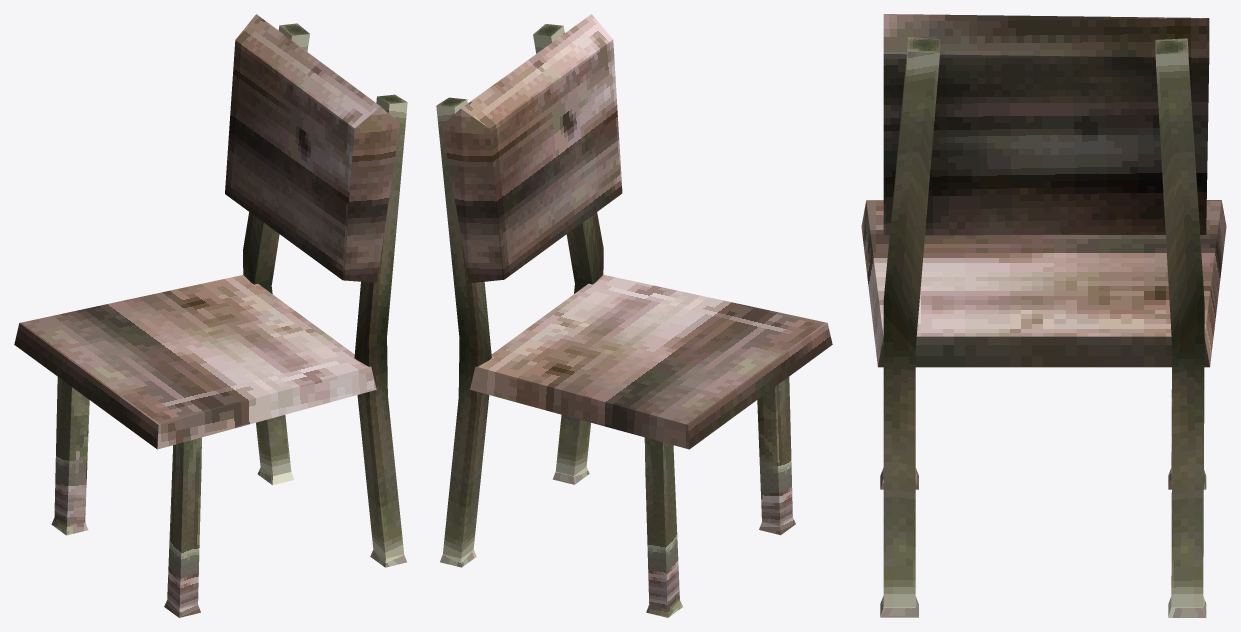
Rendered from prop_chair.glb.
3 views of the same model, side by side, from view 1: azimuth 30°, elevation 25°; view 2: azimuth 150°, elevation 25°; view 3: azimuth 270°, elevation 25° (orthographic). The views are drawn at different scales.
Parts seen in each view (by area): view 1: Chair2; view 2: Chair2; view 3: Chair2.
Part boxes in pixels (bbox=[...]): Chair2: bbox=[14, 14, 407, 617]; Chair2: bbox=[436, 14, 832, 617]; Chair2: bbox=[861, 14, 1226, 617].
Size of the model in its own units: 0.7345 by 1.21 by 0.6778.
Materials: 1 (1 with a texture image).
